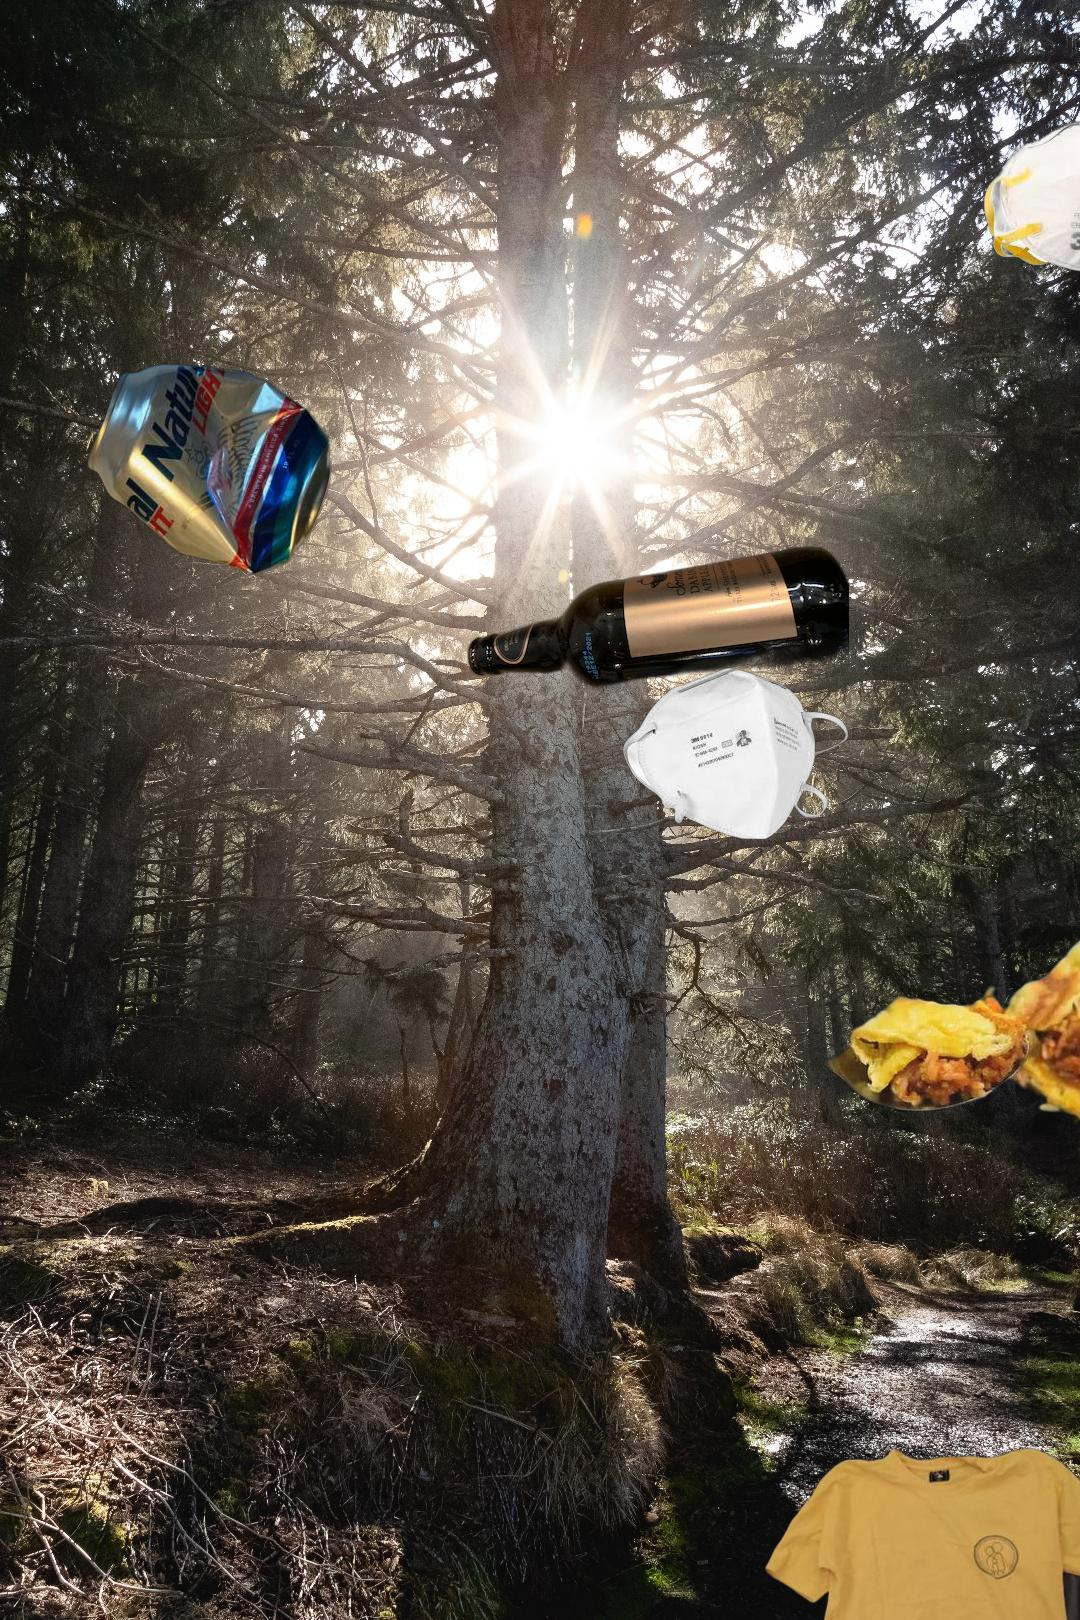biological: (761, 845, 1080, 1182)
clothes: (761, 1444, 1080, 1620), (897, 1474, 1080, 1620)
glass: (463, 545, 849, 695)
metal-cans: (83, 360, 336, 579)
trash: (623, 665, 849, 843), (981, 118, 1080, 275)
